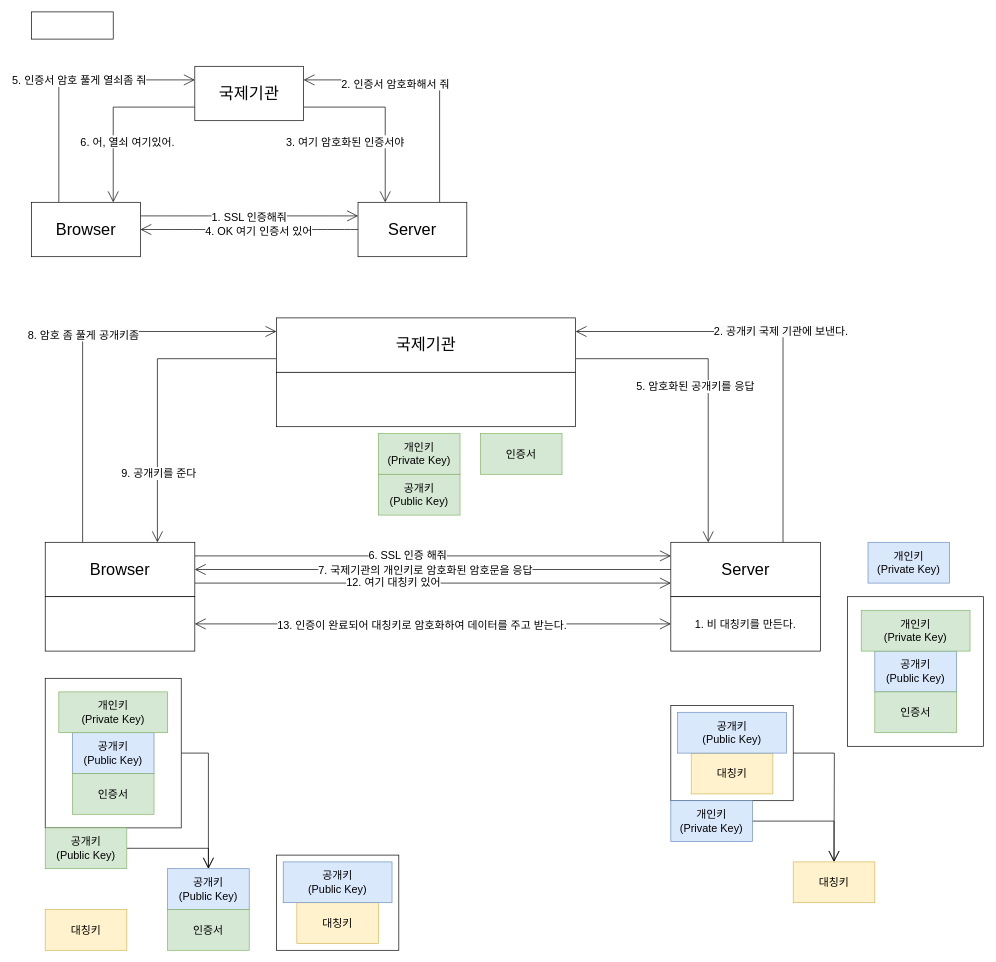
Image size: 996x962. Some labels were removed from this diagram. Each missing label, with the centre of its shape:
10. 대칭키를 만든다. 11. 서버의 공개키로 대칭키를 암호화: pixel 120 623
3. 비 대칭키를 만든다. 4. Server의 공개키를 국제기관의 개인키로 암호화를 진행: pixel 426 399
SSL의 과정: pixel 72 25
